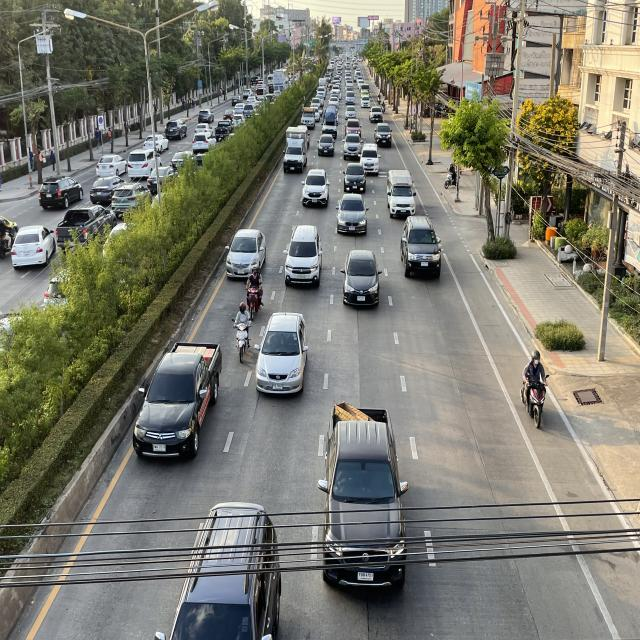bike: (517, 344, 551, 432), (231, 299, 255, 367), (244, 260, 266, 322)
truck: (385, 167, 417, 221), (283, 126, 308, 176)
